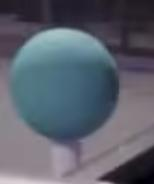algae: (8, 28, 120, 143)
coral: (53, 140, 80, 178)
